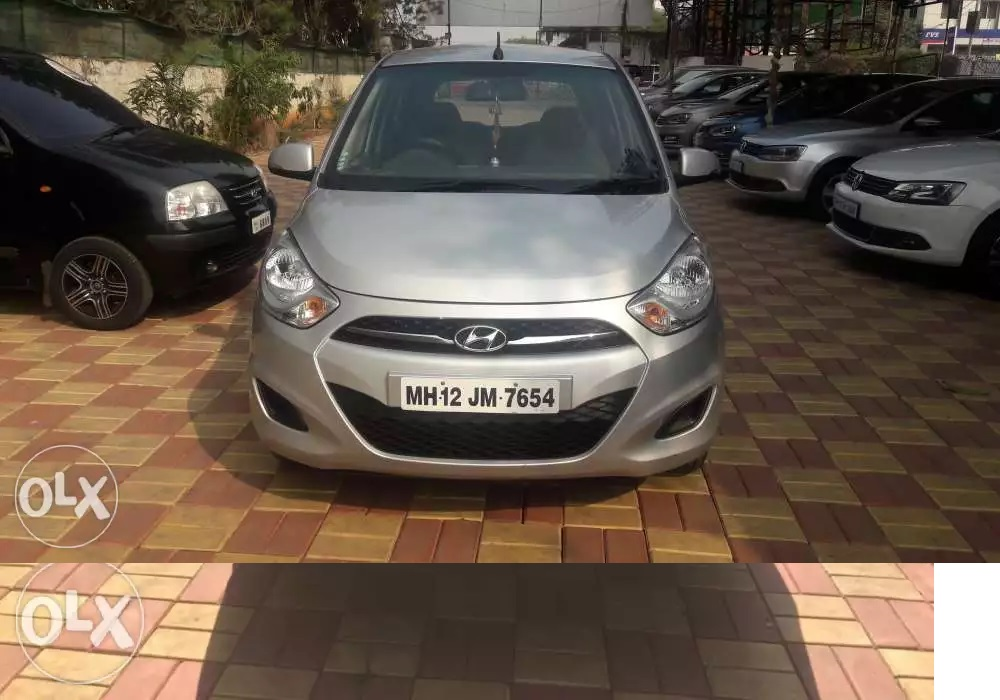licenseplate: (400, 374, 568, 419)
